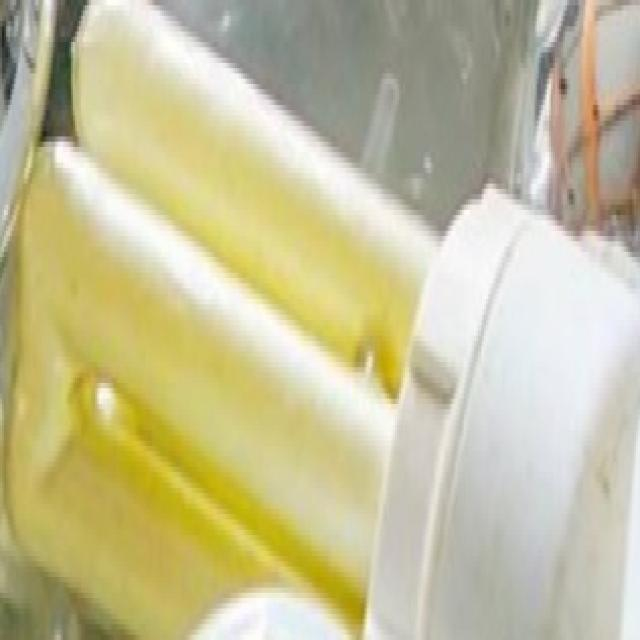bulb: (10, 6, 635, 630)
